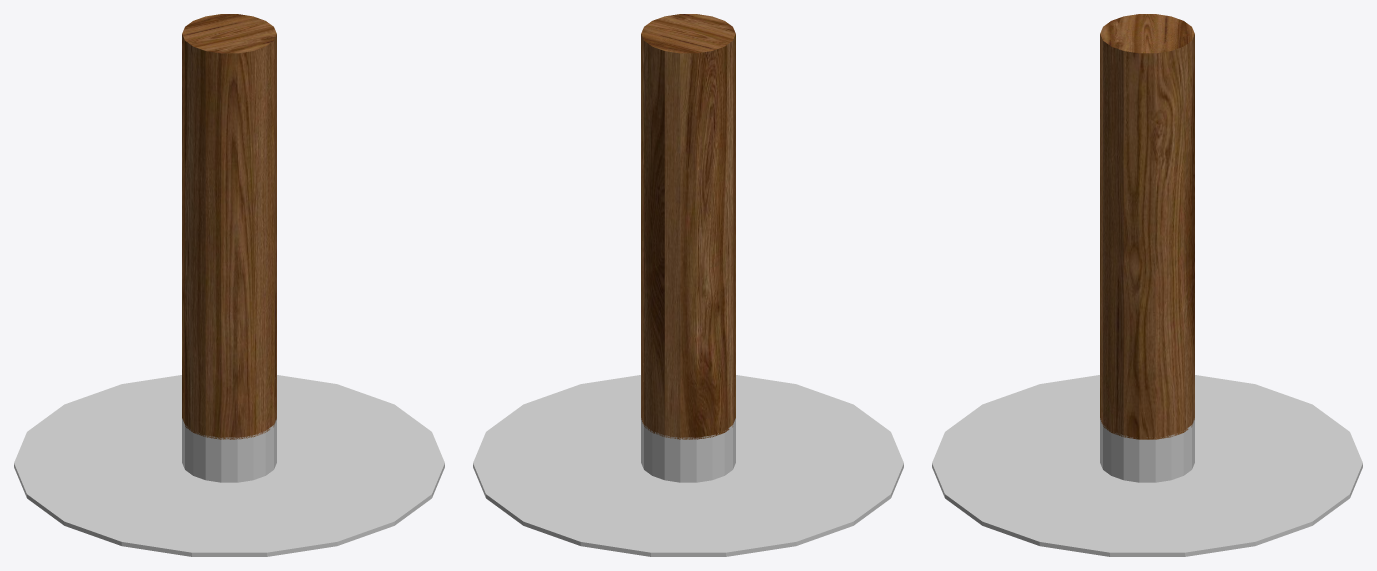
Rendered from Hotteok_Push.fbx.
3 views of the same model, side by side, from view 1: azimuth 30°, elevation 25°; view 2: azimuth 150°, elevation 25°; view 3: azimuth 270°, elevation 25° (orthographic).
Visible parts, largest first — view 1: steel, wood; view 2: steel, wood; view 3: steel, wood.
Part boxes in pixels (box(x1,y1,x2,y2)): steel: box(14, 375, 444, 556); wood: box(182, 14, 276, 439); steel: box(473, 375, 903, 556); wood: box(641, 14, 735, 439); steel: box(932, 375, 1362, 556); wood: box(1100, 14, 1194, 439).
Size of the model in its own units: 179 by 202 by 182.
Materials: 2 (1 with a texture image).
